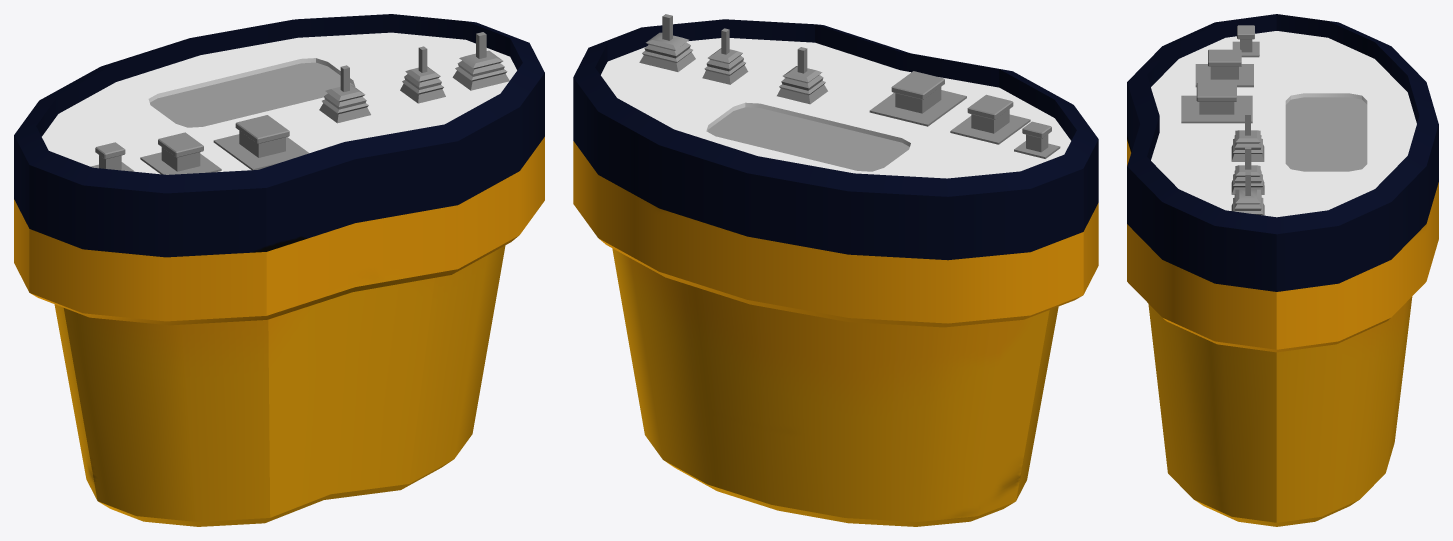
Rendered from Ezel.FBX.
3 renders of one model, left to right at view 1: azimuth 30°, elevation 25°; view 2: azimuth 150°, elevation 25°; view 3: azimuth 270°, elevation 25°, orthographic. The views are drawn at different scales.
Parts seen in each view (by area): view 1: Ezel; view 2: Ezel; view 3: Ezel.
Part boxes in pixels (x1,y1,x2,y2): Ezel: [14, 14, 544, 526]; Ezel: [573, 14, 1098, 526]; Ezel: [1127, 14, 1438, 526].
Bounding box in the file's own units: 45.77 × 27.37 × 34.97.
